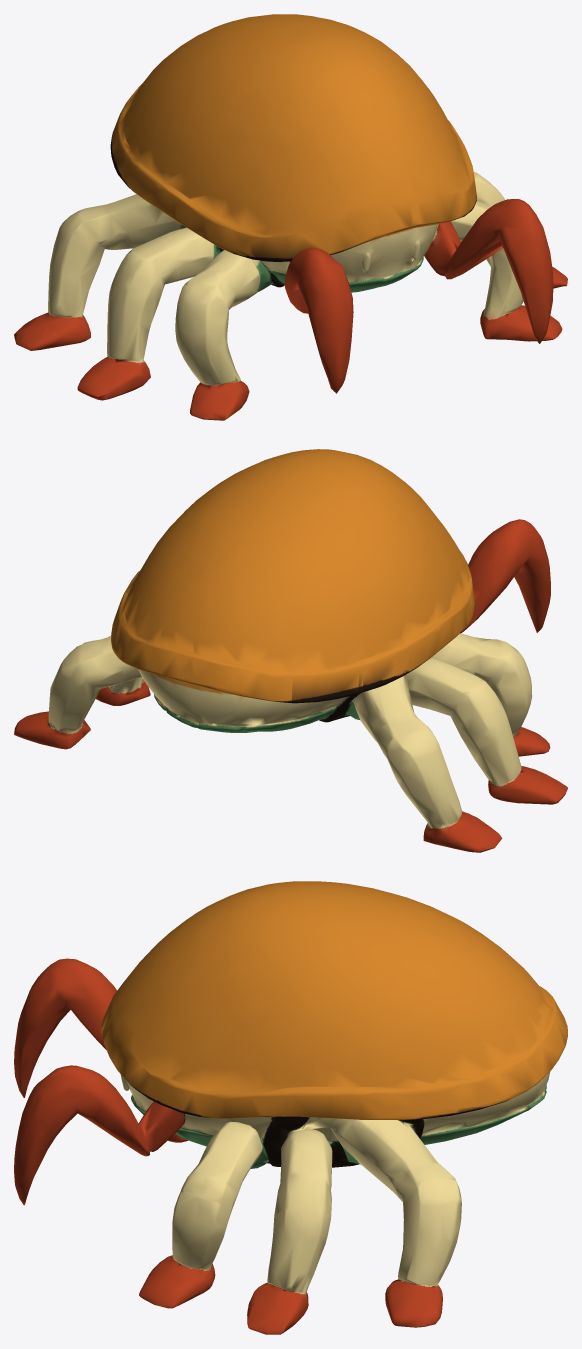
Rendered from tripo-lod.glb.
The picture shows the model from 3 angles, top to bottom: view 1: azimuth 30°, elevation 25°; view 2: azimuth 150°, elevation 25°; view 3: azimuth 270°, elevation 25°; orthographic projection. The views are drawn at different scales.
Visible parts, largest first — view 1: shellback tripo lod; view 2: shellback tripo lod; view 3: shellback tripo lod.
Boxes of the visible parts, x1,y1,x2,y2 form: shellback tripo lod: (14,14,567,420); shellback tripo lod: (14,449,567,852); shellback tripo lod: (14,881,567,1334).
Size of the model in its own units: 2.7 by 1.55 by 2.48.
1 material, 1 textured.
